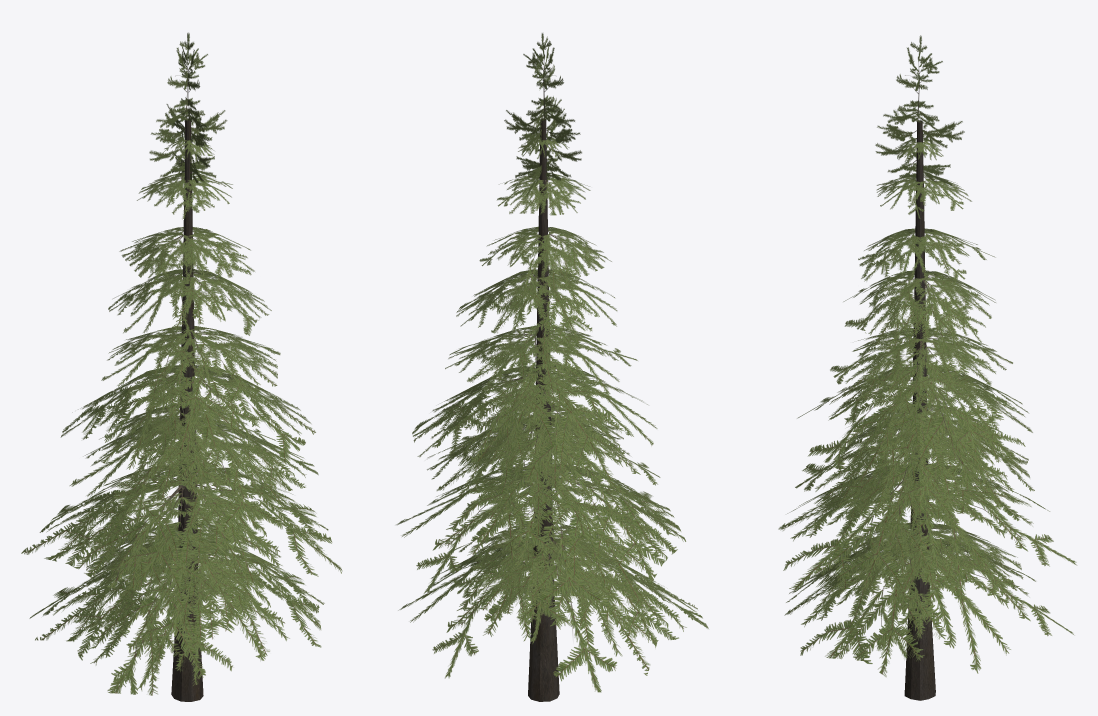
Rendered from pino_basso.glb.
3 renders of one model, left to right at view 1: azimuth 30°, elevation 25°; view 2: azimuth 150°, elevation 25°; view 3: azimuth 270°, elevation 25°, orthographic.
Visible parts, largest first — view 1: pino_basso; view 2: pino_basso; view 3: pino_basso.
Part boxes in pixels (left/top/right/bottom): pino_basso: left=21, top=32, right=342, bottom=701; pino_basso: left=396, top=33, right=708, bottom=701; pino_basso: left=778, top=35, right=1076, bottom=700.
Size of the model in its own units: 3.34 by 7.5 by 3.52.
3 materials, 3 textured.
